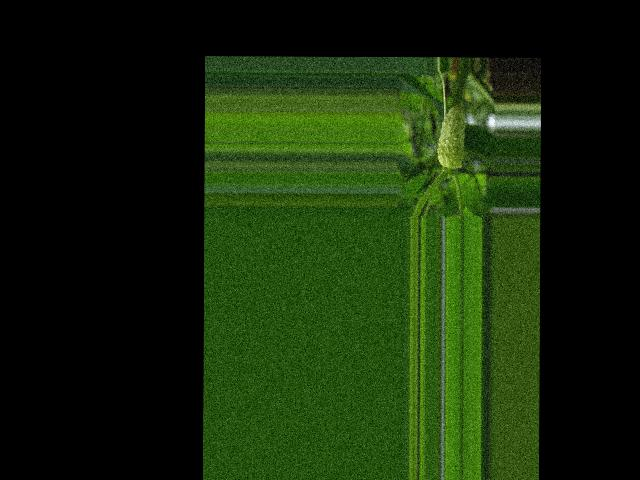cucumber: (436, 103, 464, 168)
